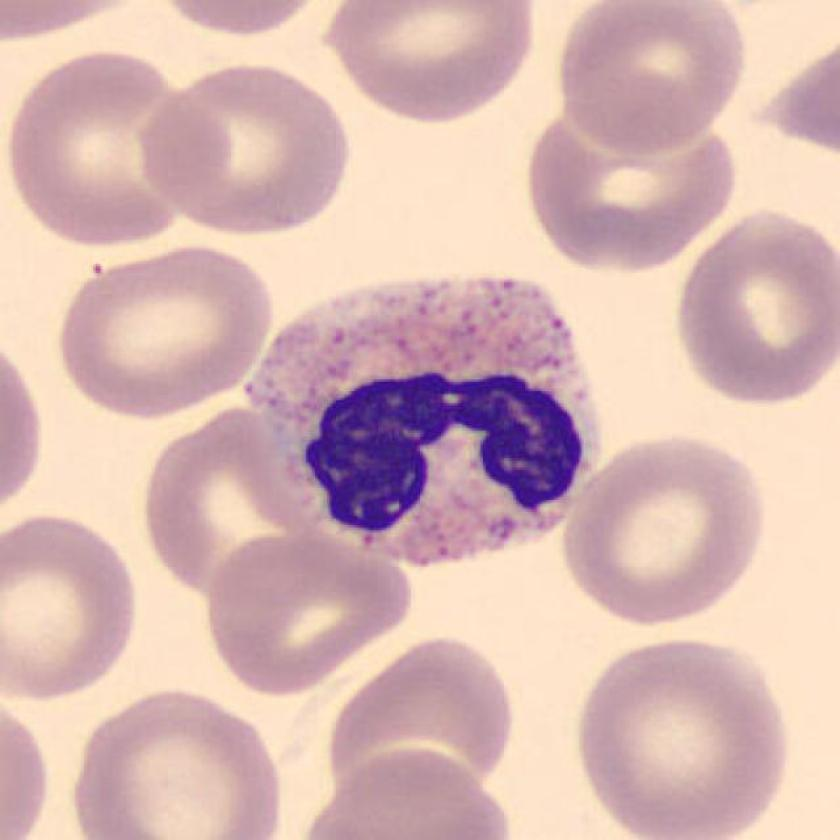neutrophil: (248, 278, 605, 569)
